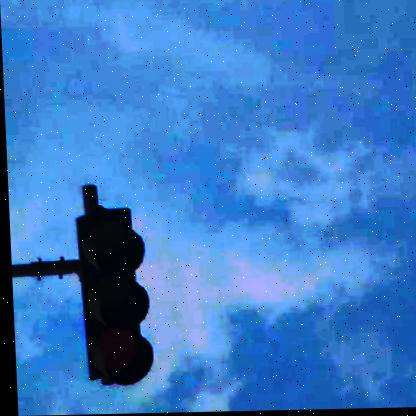Traffic Light -Red-: (77, 208, 149, 384)
